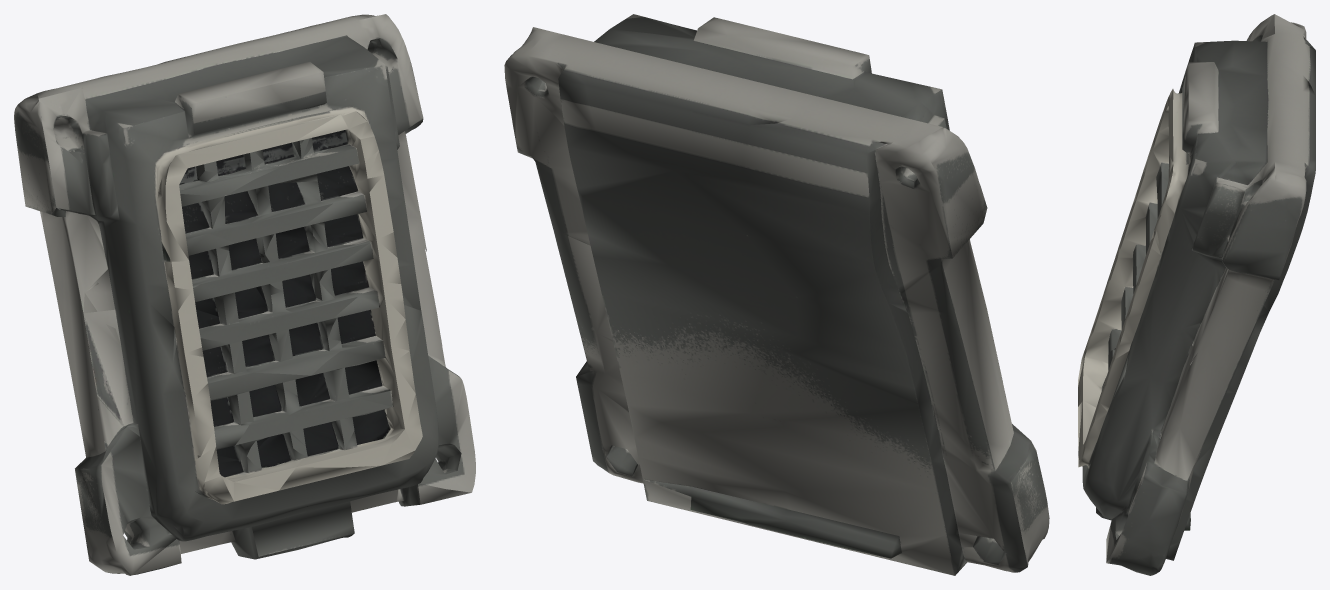
The model's file is 11_debris_grille.fbx.
3 views of the same model, side by side, from view 1: azimuth 30°, elevation 25°; view 2: azimuth 150°, elevation 25°; view 3: azimuth 270°, elevation 25° (orthographic). The views are drawn at different scales.
Visible parts, largest first — view 1: 11_debris_grille; view 2: 11_debris_grille; view 3: 11_debris_grille.
Boxes of the visible parts, bbox=[...] form: 11_debris_grille: bbox=[14, 14, 475, 575]; 11_debris_grille: bbox=[504, 14, 1049, 575]; 11_debris_grille: bbox=[1078, 14, 1315, 575].
Size of the model in its own units: 0.7094 by 0.8 by 0.4191.
Materials: 1 (1 with a texture image).
